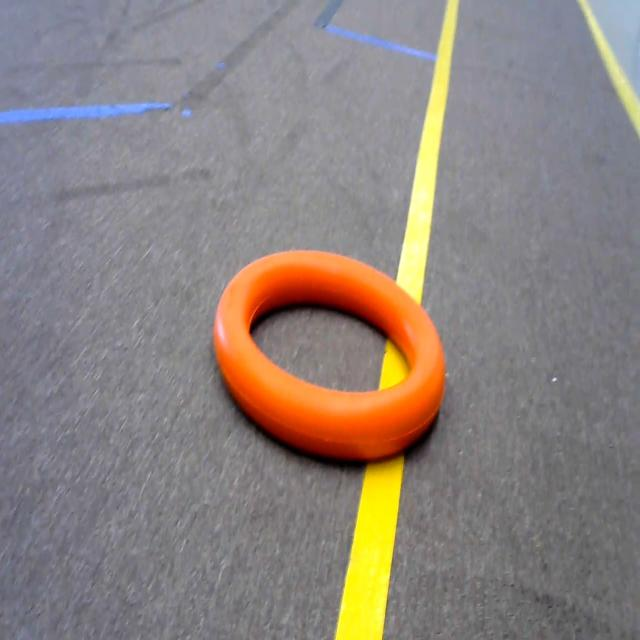note: (195, 216, 476, 475)
